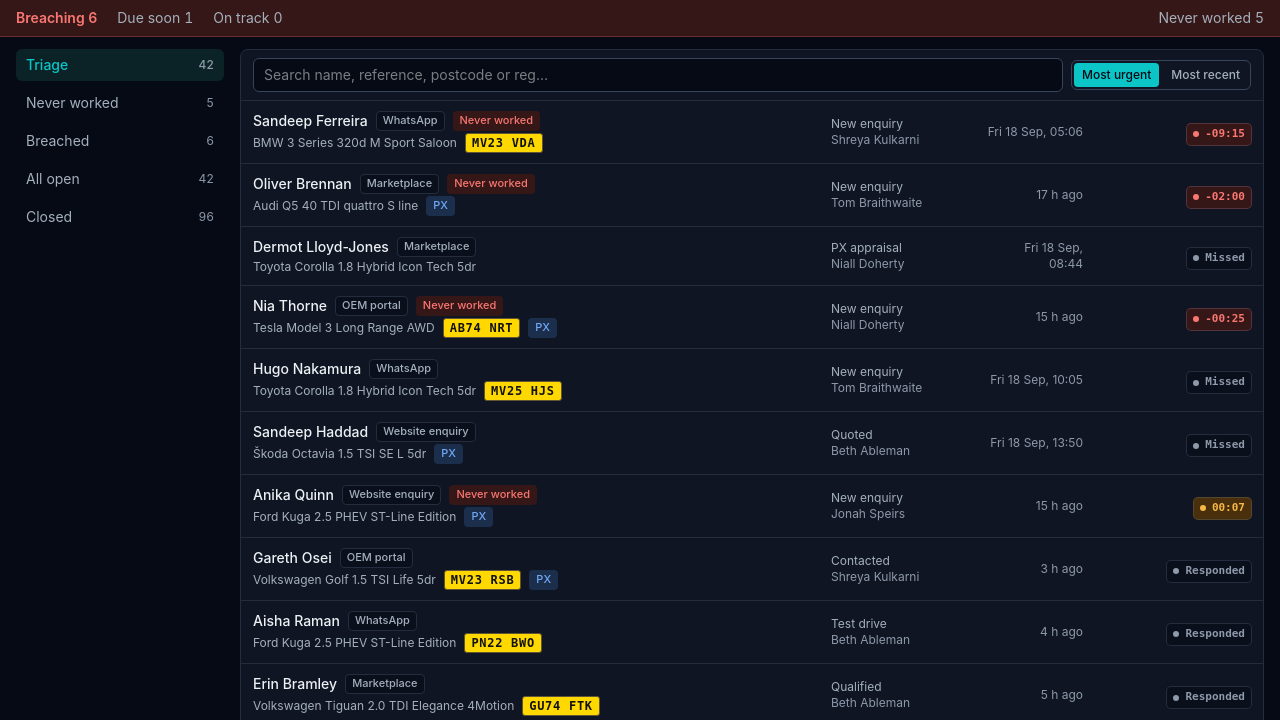
Test case: InboxPage › shows an honest empty state when nothing matches
Expected: the link with test id "lead-row" that starts with "Sandeep Ferreira" is shown, [241,101,1263,163]
Type "zzzz-nobody" into the search field with test id "inbox-search" at (658, 75), box [253,58,1063,92]
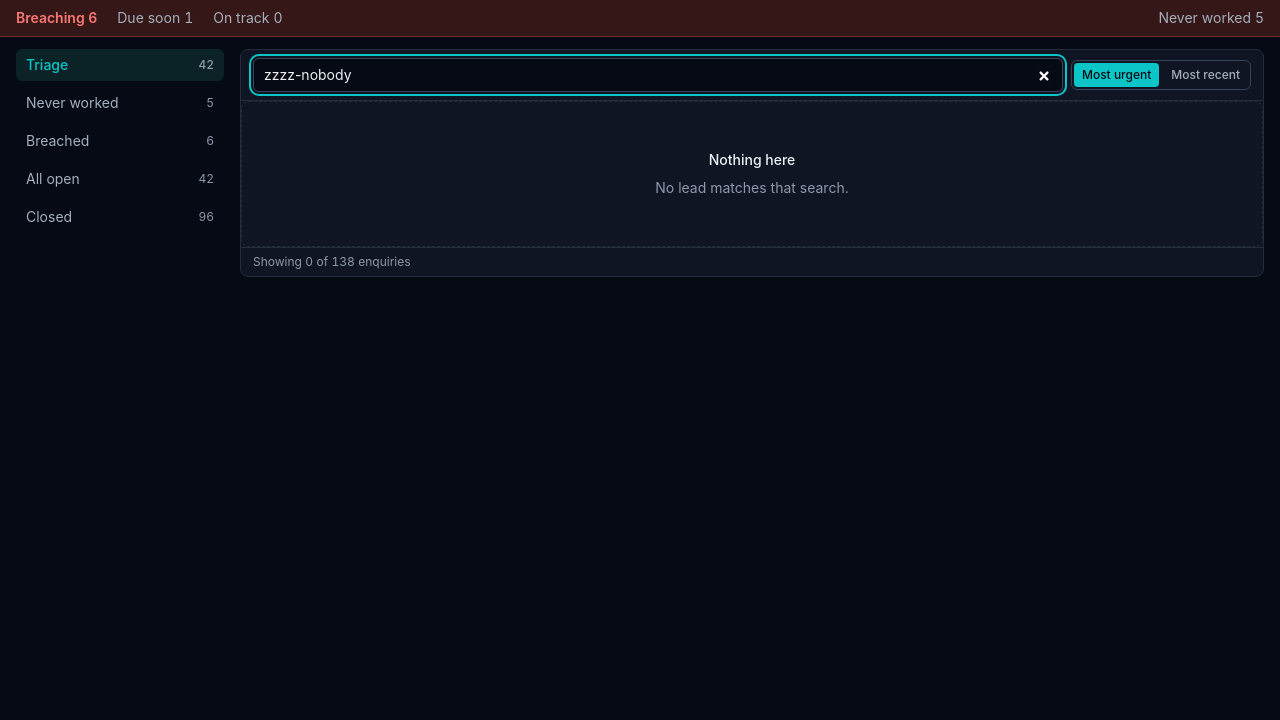
Result: the element with test id "inbox-empty" is shown at [241,101,1263,247]
